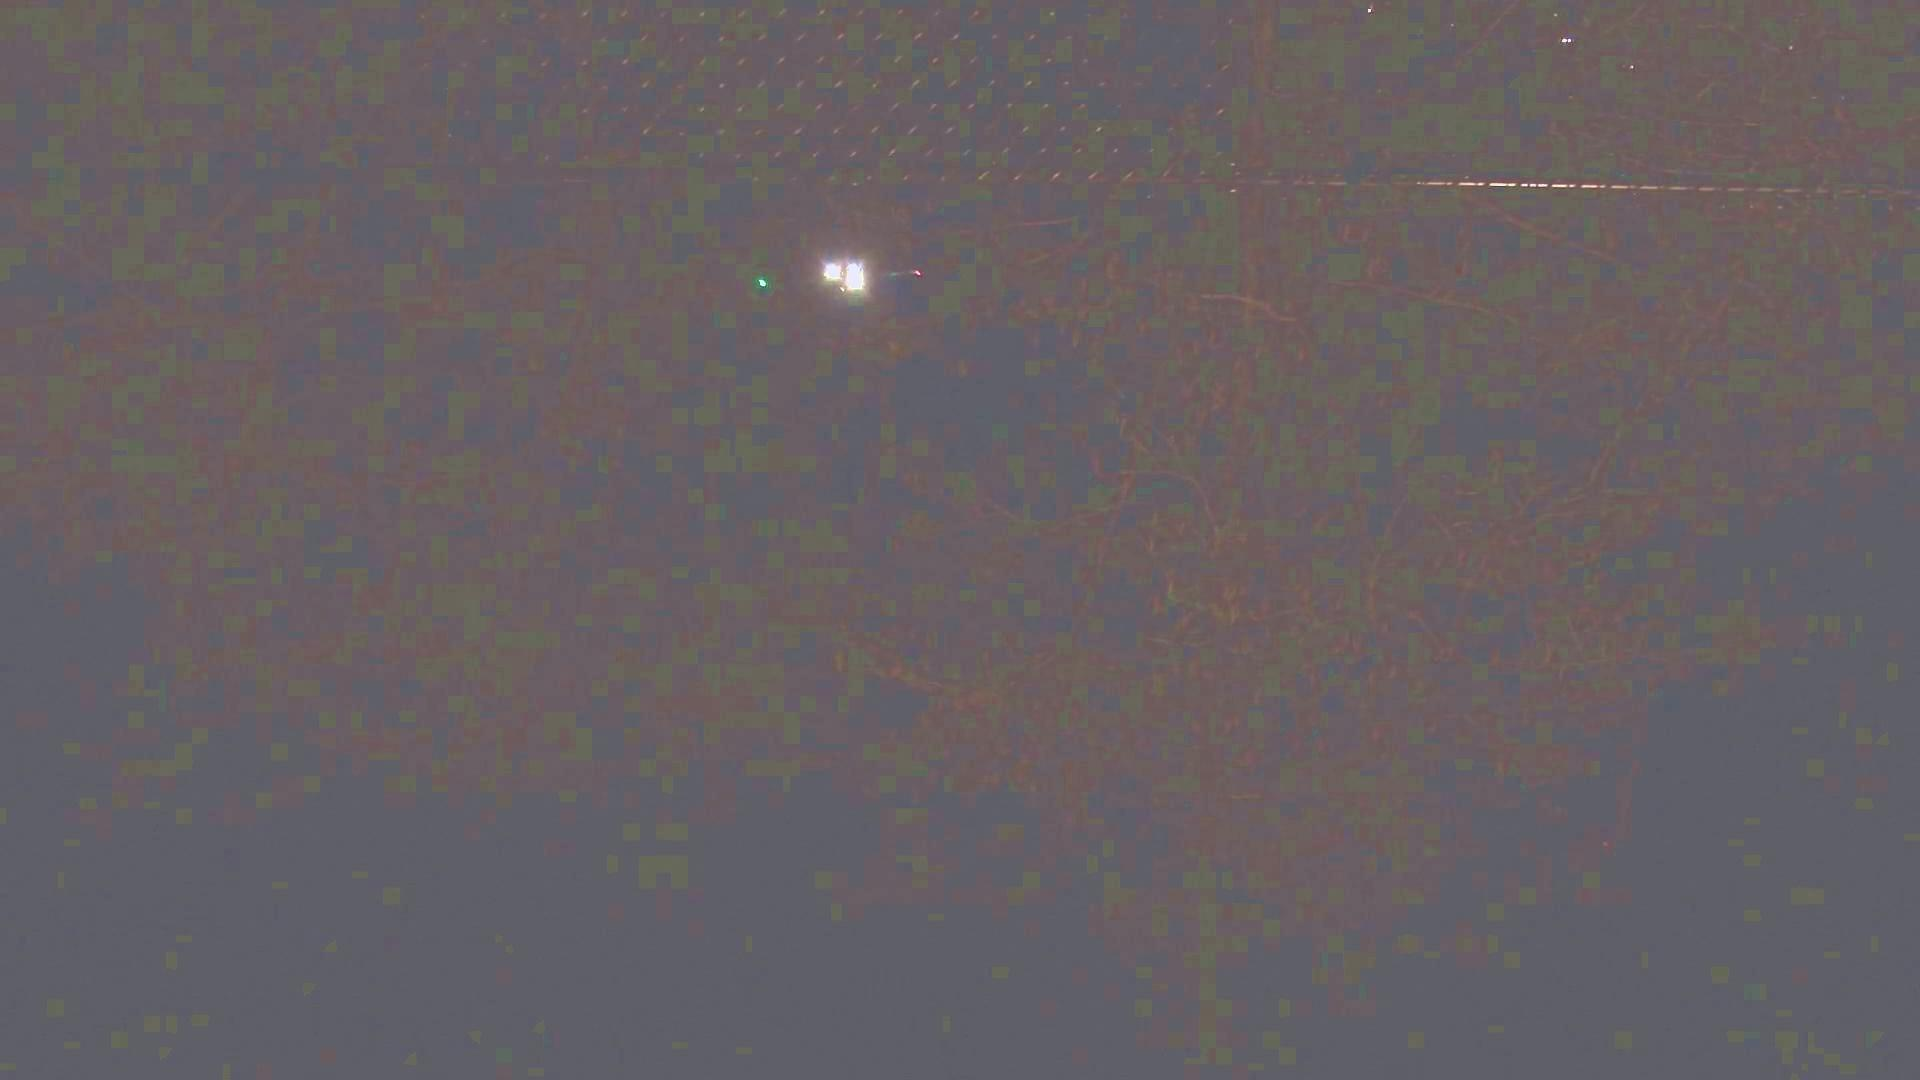Plane: (736, 244, 962, 305)
